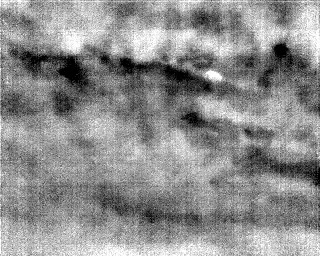BIRD: (202, 66, 223, 82)
